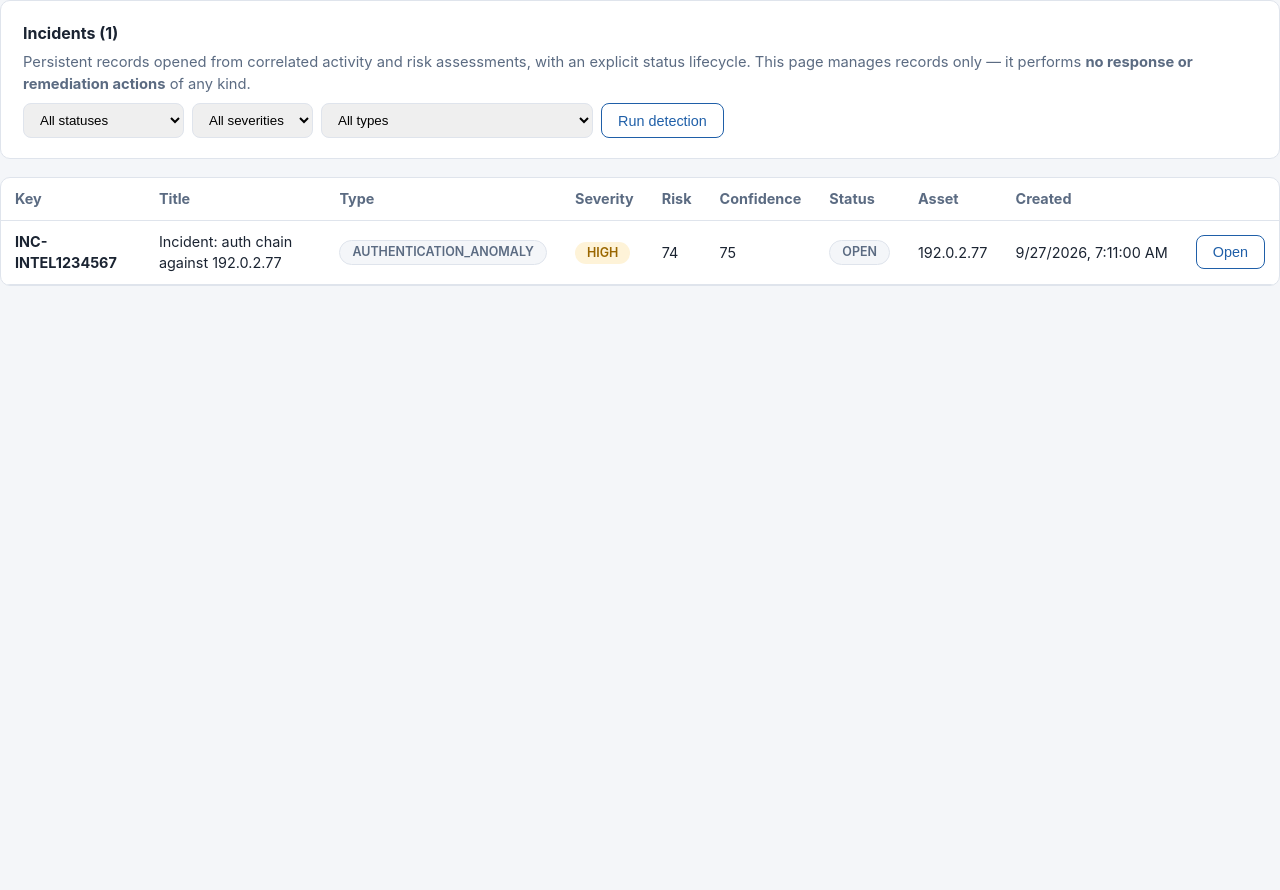
Scenario: Security timeline (Phase 3, Step 35) › renders the honest empty state when no entries are stored
The width and height of the screenshot is (1280, 890).
What coordinates should you click on to do the following:
click the button "Open"
I would click on:
 (1230, 252)
Its box is [1196,235,1265,269].
(page scrolled)
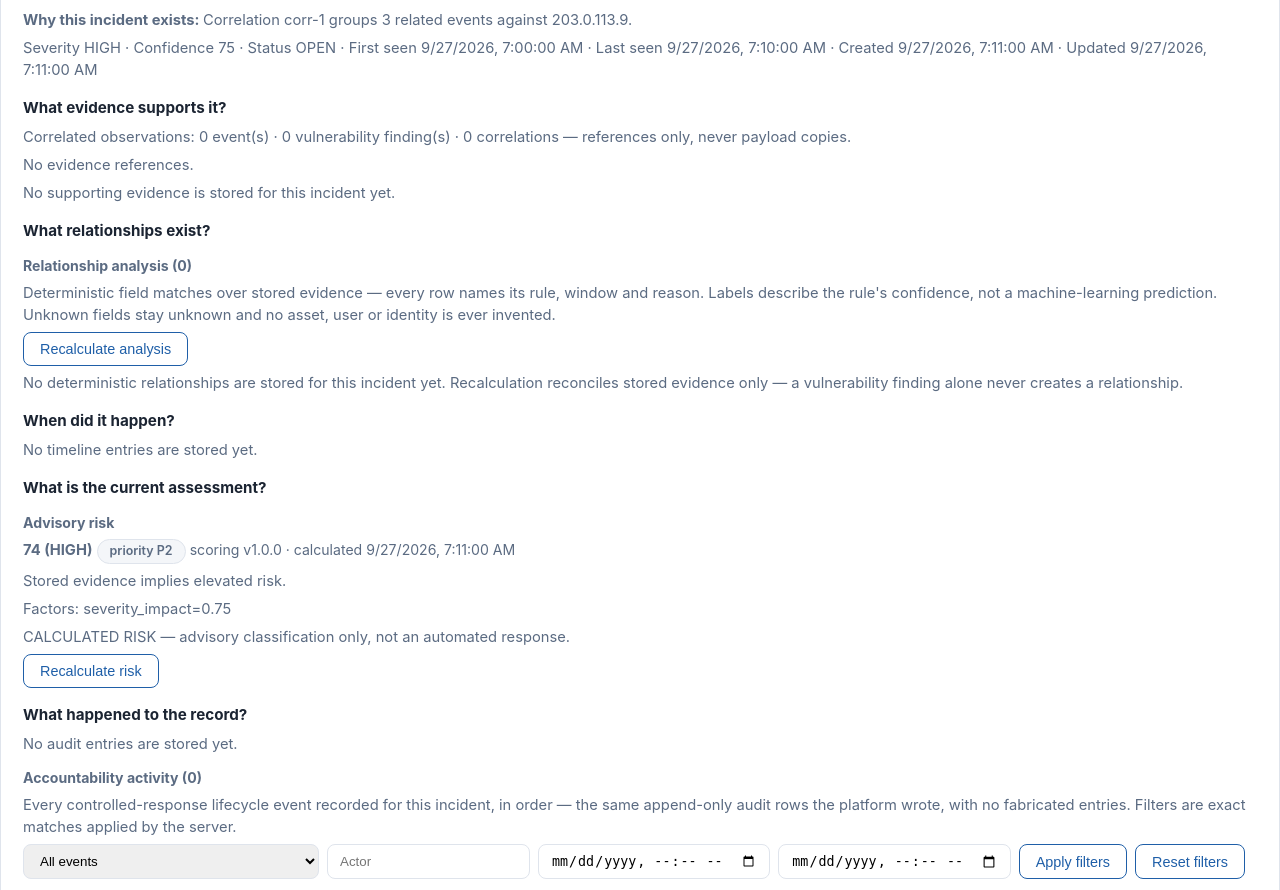
Expected: the heading "Relationship analysis (0)" is shown, [23,257,192,274]
Expected: the text "No timeline entries are stored yet." is shown, [23,441,258,459]
